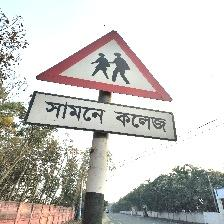College-in-front: (21, 22, 219, 179)
